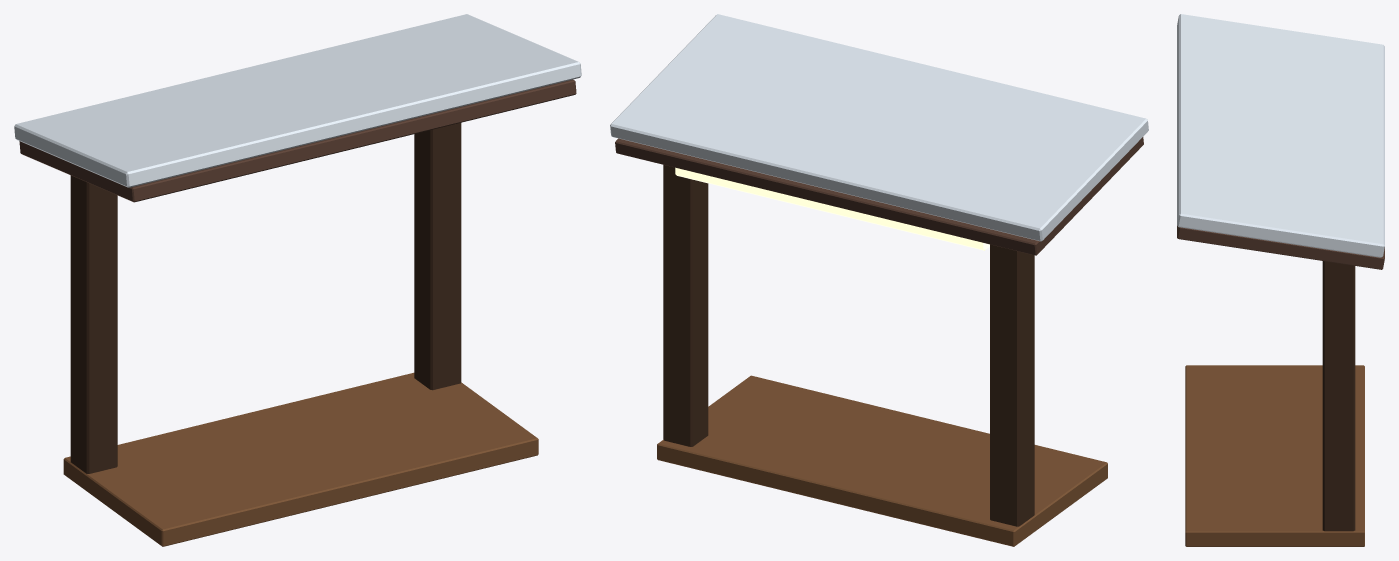
Rendered from Hut_Porch_0_-2.fbx.
The picture shows the model from 3 angles, left to right: view 1: azimuth 30°, elevation 25°; view 2: azimuth 150°, elevation 25°; view 3: azimuth 270°, elevation 25°; orthographic projection. The views are drawn at different scales.
Parts seen in each view (by area): view 1: Hut_Porch_0_-2; view 2: Hut_Porch_0_-2; view 3: Hut_Porch_0_-2.
Part boxes in pixels (x1,y1,x2,y2): Hut_Porch_0_-2: (14, 14, 581, 546); Hut_Porch_0_-2: (610, 14, 1148, 546); Hut_Porch_0_-2: (1177, 14, 1384, 546).
Size of the model in its own units: 410 by 333 by 179.
